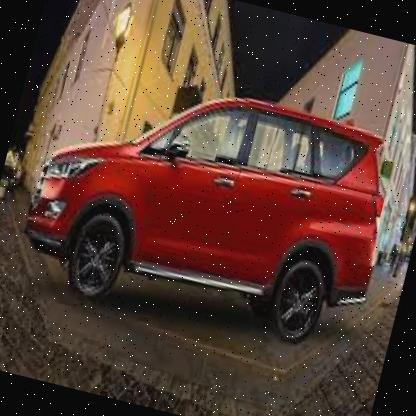car: (8, 45, 416, 375)
